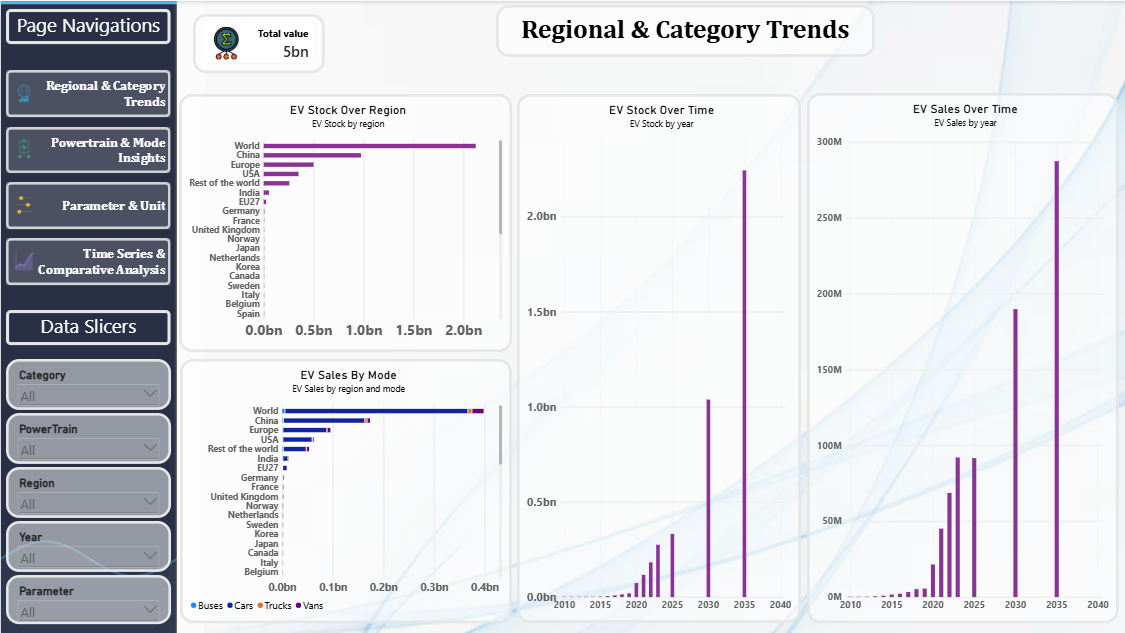

This screenshot's page, from the dashboard's own definition file:
{"tool":"powerbi","page":{"name":"Regional & Category Trends","canvas":[2560,1440],"ordinal":0},"visuals":[{"type":"textbox","box":[1127.5,10,862.5,117.5],"z":0},{"type":"cardVisual","fields":{"Data":["IEA Global EV Data 2024.Total value1"]},"box":[437.5,29.6,300,135],"z":1000},{"type":"lineStackedColumnComboChart","title":"EV Sales Over Time ","fields":{"Category":["IEA Global EV Data 2024.year"],"Y":["IEA Global EV Data 2024.EV Sales"]},"box":[1837.5,210,710,1207.5],"z":2000},{"type":"barChart","title":"EV Stock Over Region","fields":{"Category":["IEA Global EV Data 2024.region"],"Y":["IEA Global EV Data 2024.EV Stock"]},"box":[405.6,211.9,758.7,587.8],"z":3000},{"type":"barChart","title":"EV Sales By Mode","fields":{"Category":["IEA Global EV Data 2024.region"],"Series":["IEA Global EV Data 2024.mode"],"Y":["IEA Global EV Data 2024.EV Sales"]},"box":[407.8,815.7,756.5,601.5],"z":5000},{"type":"clusteredColumnChart","title":"EV Stock Over Time","fields":{"Category":["IEA Global EV Data 2024.year"],"Y":["IEA Global EV Data 2024.EV Stock"]},"box":[1175.7,211.9,647.1,1205.3],"z":6000},{"type":"textbox","box":[12.5,17.5,375,80],"z":7000},{"type":"actionButton","box":[12.5,157.5,375,107.5],"z":8000},{"type":"actionButton","box":[12.5,287.5,375,105],"z":9000},{"type":"actionButton","box":[12.5,412.5,375,107.5],"z":10000},{"type":"actionButton","box":[12.5,540,375,107.5],"z":11000},{"type":"slicer","fields":{"Values":["IEA Global EV Data 2024.region"]},"box":[11.4,1061.8,375.9,116.2],"z":12000},{"type":"slicer","fields":{"Values":["IEA Global EV Data 2024.powertrain"]},"box":[11.4,938.7,375.9,116.2],"z":13000},{"type":"slicer","fields":{"Values":["IEA Global EV Data 2024.category"]},"box":[11.4,815.7,375.9,116.2],"z":14000},{"type":"slicer","fields":{"Values":["IEA Global EV Data 2024.year"]},"box":[11.4,1184.8,375.9,116.2],"z":15000},{"type":"slicer","fields":{"Values":["IEA Global EV Data 2024.parameter"]},"box":[11.4,1307.8,375.9,111.6],"z":16000},{"type":"textbox","box":[11.4,704.1,375,80],"z":17000}]}

Visuals, with their boxes on the page's 2560x1440 design canvas (x1, y1, x2, y2). These are canvas units, not pixel positions in the 1125x633 screenshot, which may show the page scaled, cropped or inside an application window:
textbox: (1128, 10, 1990, 128)
cardVisual - IEA Global EV Data 2024.Total value1: (438, 30, 738, 165)
"EV Sales Over Time " lineStackedColumnComboChart: (1838, 210, 2548, 1418)
"EV Stock Over Region" barChart: (406, 212, 1164, 800)
"EV Sales By Mode" barChart: (408, 816, 1164, 1417)
"EV Stock Over Time" clusteredColumnChart: (1176, 212, 1823, 1417)
textbox: (12, 18, 388, 98)
actionButton: (12, 158, 388, 265)
actionButton: (12, 288, 388, 392)
actionButton: (12, 412, 388, 520)
actionButton: (12, 540, 388, 648)
slicer - IEA Global EV Data 2024.region: (11, 1062, 387, 1178)
slicer - IEA Global EV Data 2024.powertrain: (11, 939, 387, 1055)
slicer - IEA Global EV Data 2024.category: (11, 816, 387, 932)
slicer - IEA Global EV Data 2024.year: (11, 1185, 387, 1301)
slicer - IEA Global EV Data 2024.parameter: (11, 1308, 387, 1419)
textbox: (11, 704, 386, 784)
